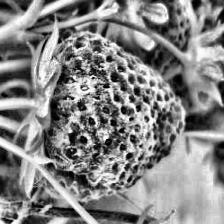Powdery Mildew Fruit: (29, 28, 186, 203)
